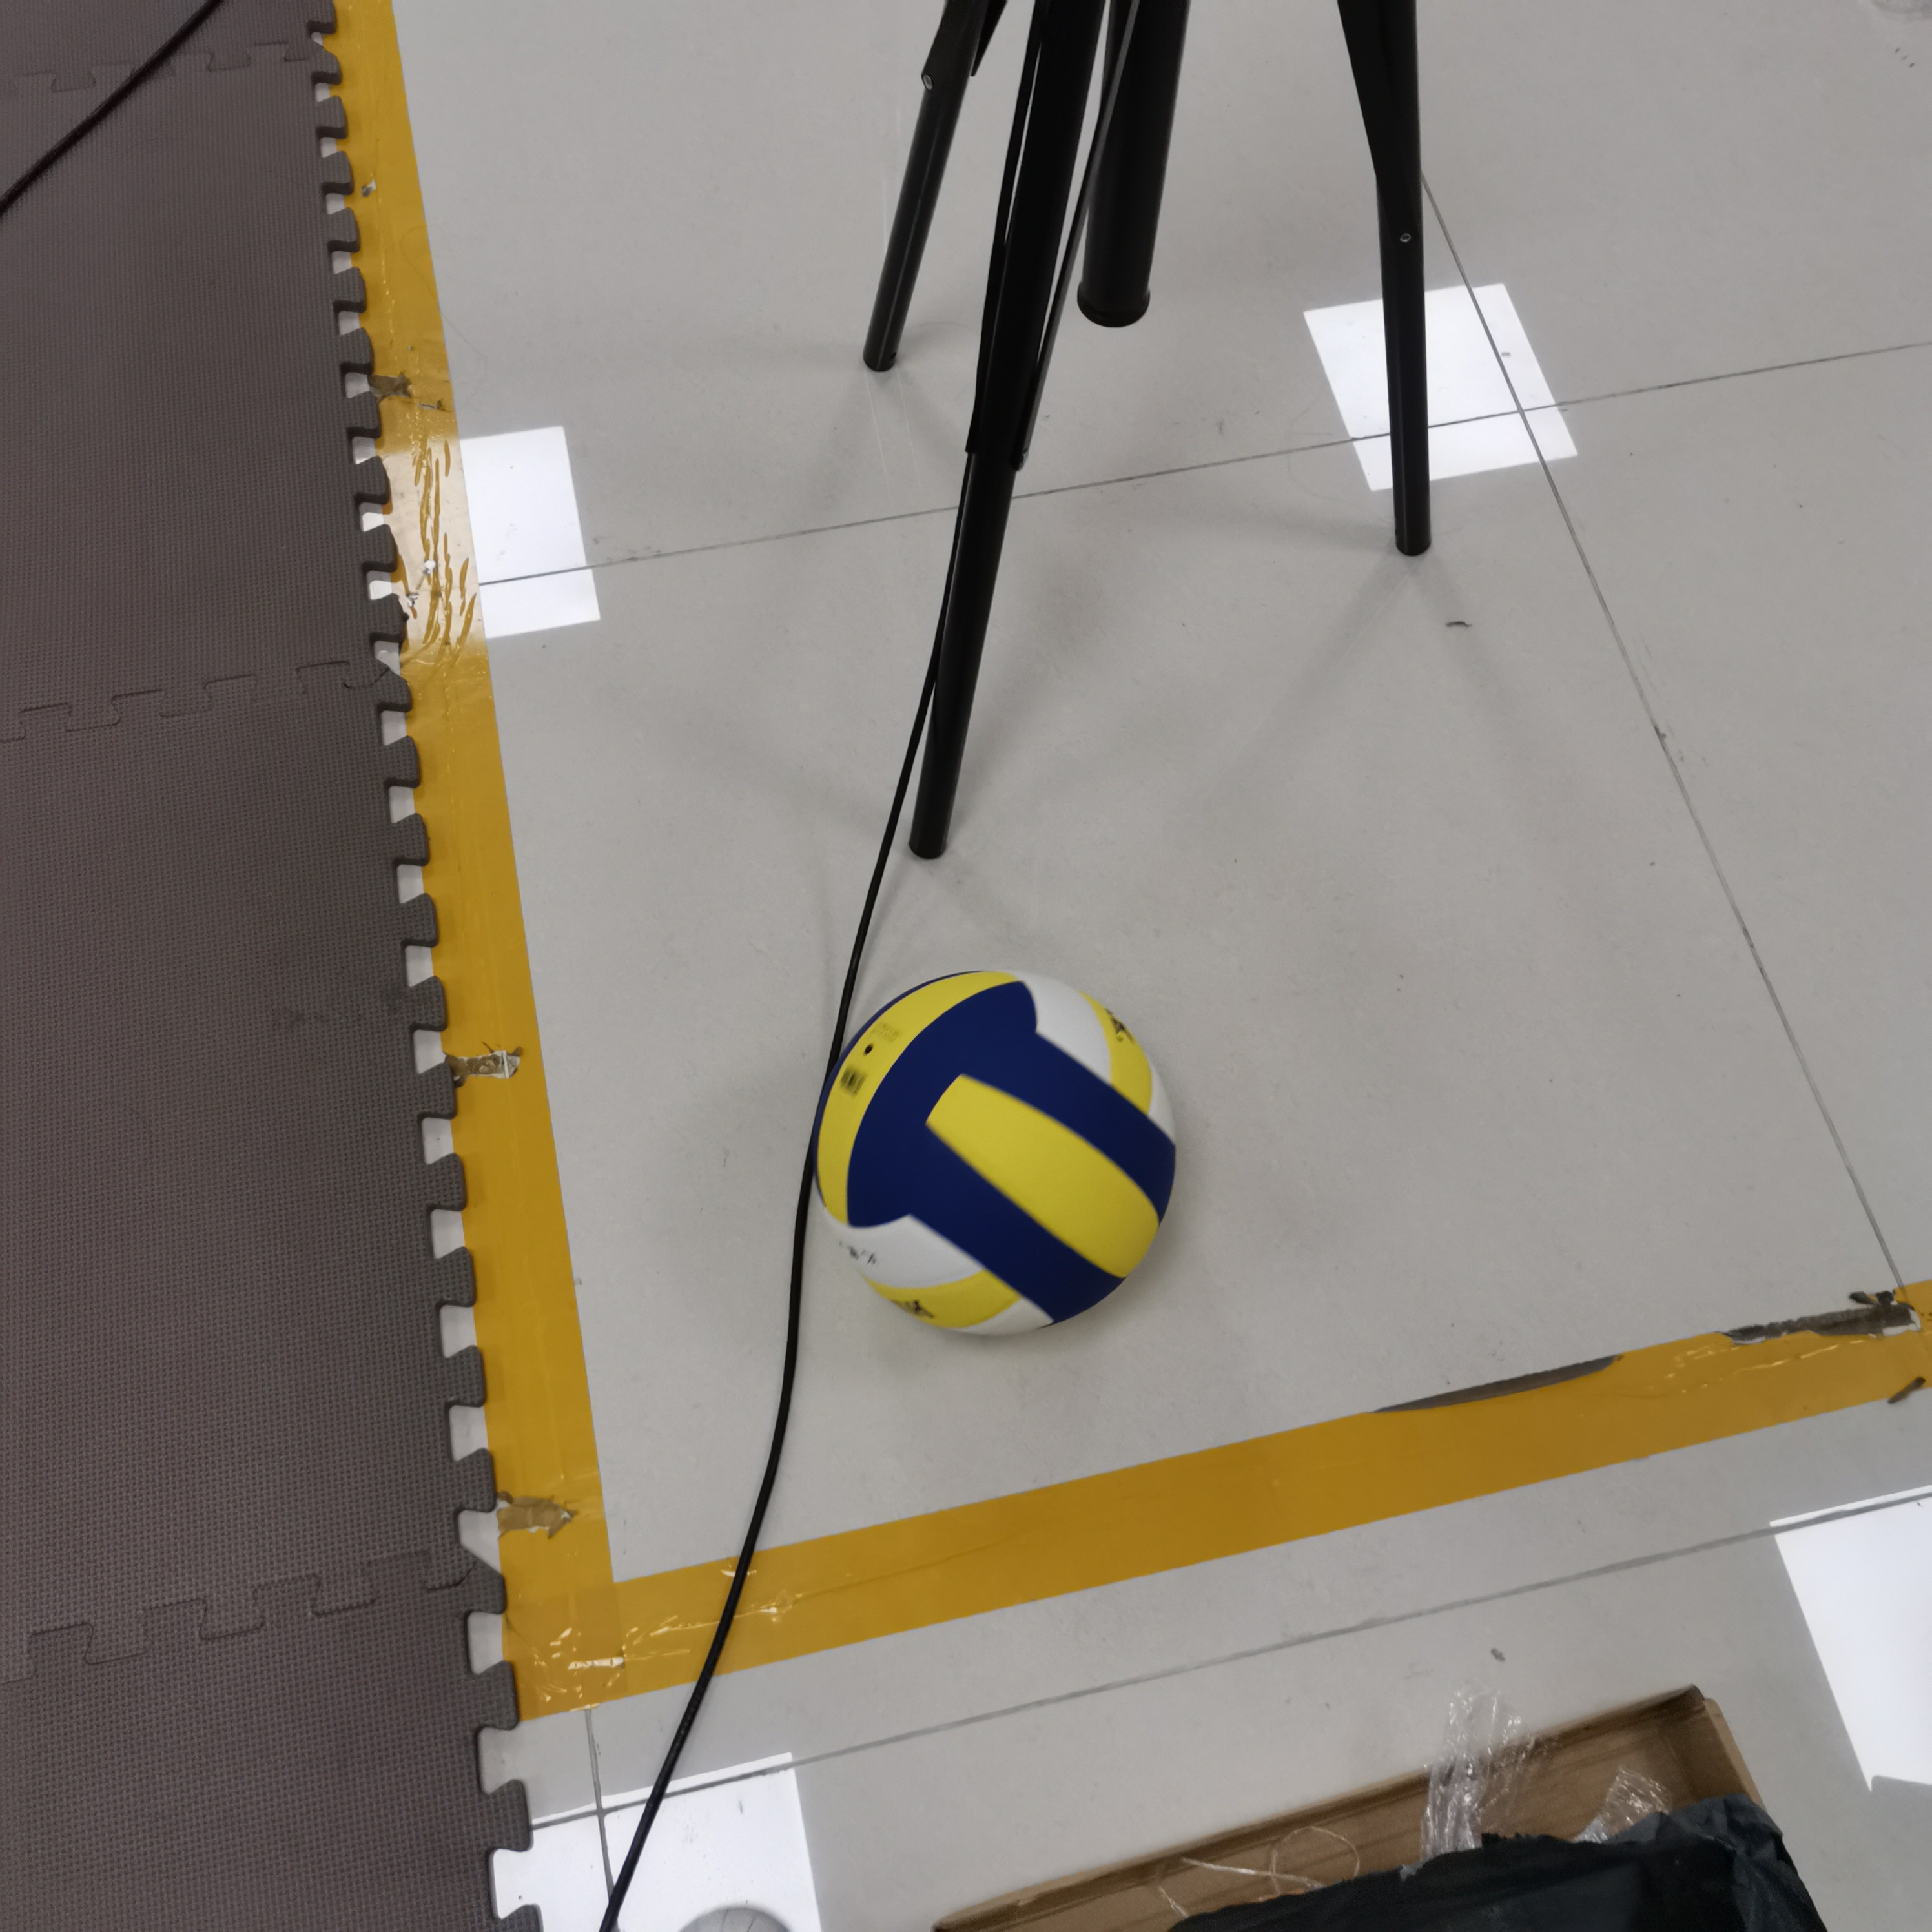volleyball: (812, 966, 1175, 1345)
